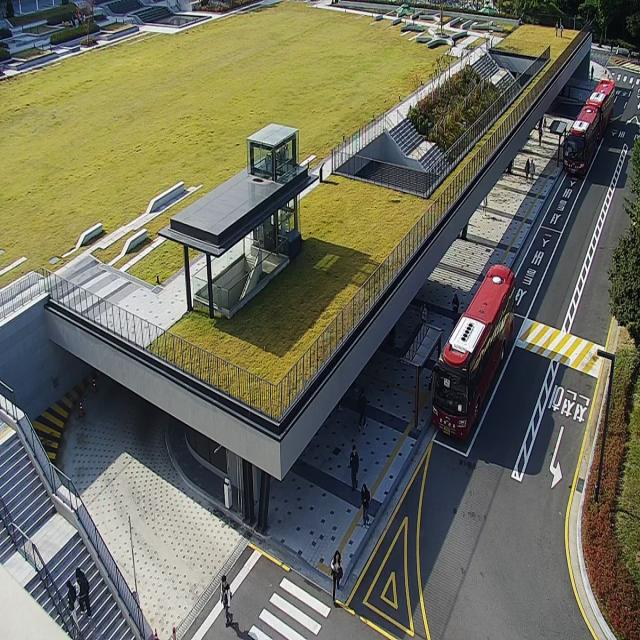queue: (417, 333, 439, 433)
